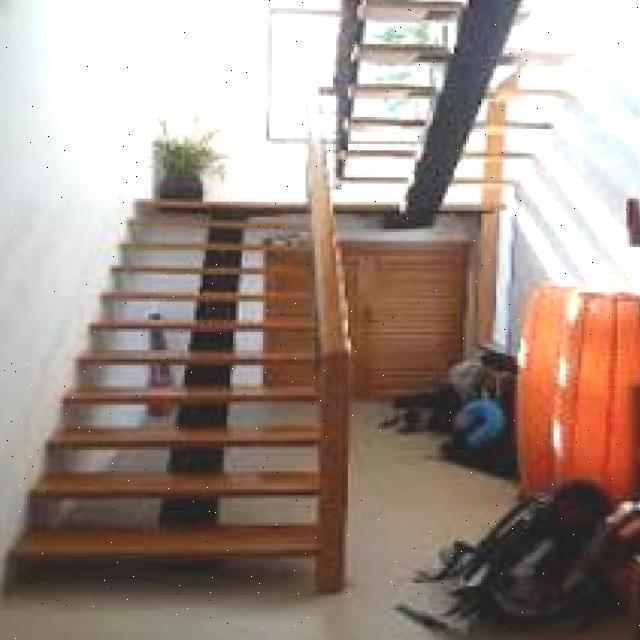stair: (3, 344, 358, 556)
